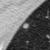node: (21, 22, 30, 30), (45, 33, 50, 39)
